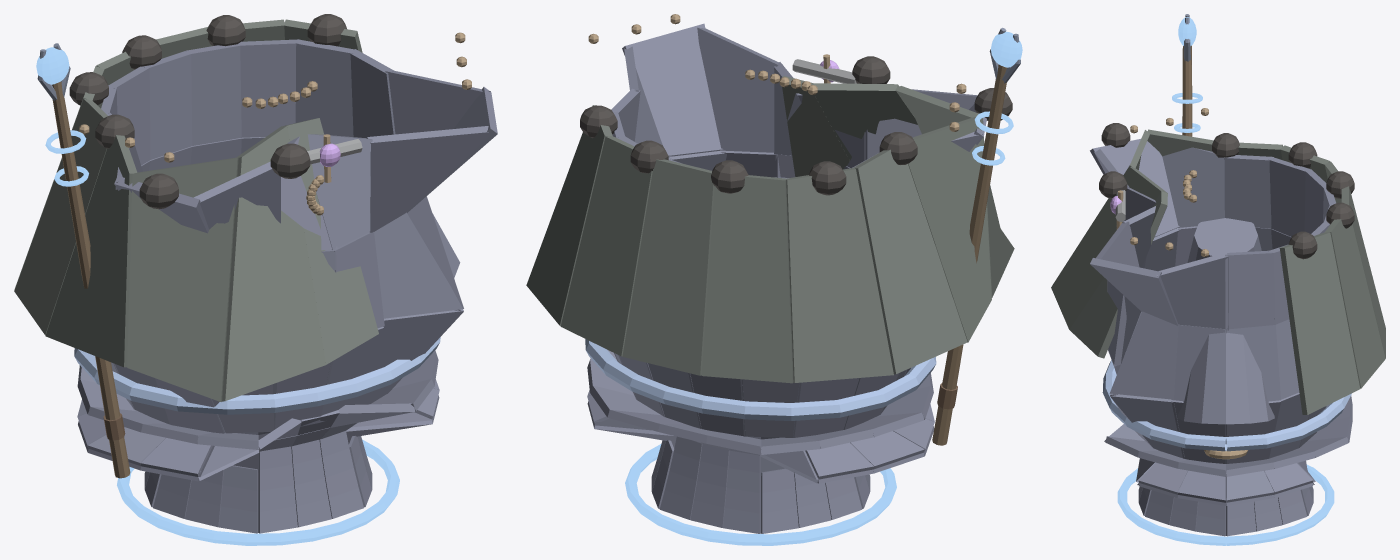
Rendered from mage_kit.glb.
3 views of the same model, side by side, from view 1: azimuth 30°, elevation 25°; view 2: azimuth 150°, elevation 25°; view 3: azimuth 270°, elevation 25° (orthographic). The views are drawn at different scales.
Visible parts, largest first — view 1: Armour_Robe_cloth_mage, Acc_Cloak_cloth_mage, Acc_Cloak_dark_mage, Armour_Robe_trim_mage, Armour_Robe_glow_mage, Weapon_haft_mage, Acc_Amulet_metal_mage, Weapon_glow_mage; view 2: Acc_Cloak_cloth_mage, Armour_Robe_cloth_mage, Armour_Robe_trim_mage, Acc_Cloak_dark_mage, Armour_Robe_glow_mage, Weapon_haft_mage, Weapon_glow_mage, Acc_Amulet_metal_mage, Acc_Cloak_metal_mage; view 3: Armour_Robe_cloth_mage, Acc_Cloak_cloth_mage, Armour_SleeveL_cloth_mage, Acc_Cloak_dark_mage, Armour_Robe_trim_mage, Armour_Robe_glow_mage, Armour_SleeveR_cloth_mage, Weapon_glow_mage, Weapon_haft_mage, Acc_Amulet_metal_mage.
Part boxes in pixels (left/top/right/bottom): Armour_Robe_cloth_mage: left=77, top=39, right=497, bottom=533; Acc_Cloak_cloth_mage: left=14, top=19, right=378, bottom=401; Acc_Cloak_dark_mage: left=69, top=14, right=346, bottom=209; Armour_Robe_trim_mage: left=74, top=337, right=440, bottom=414; Armour_Robe_glow_mage: left=117, top=439, right=399, bottom=545; Weapon_haft_mage: left=52, top=81, right=130, bottom=478; Acc_Amulet_metal_mage: left=79, top=32, right=471, bottom=215; Weapon_glow_mage: left=36, top=47, right=88, bottom=186; Acc_Cloak_cloth_mage: left=526, top=75, right=1014, bottom=383; Armour_Robe_cloth_mage: left=587, top=23, right=986, bottom=533; Armour_Robe_trim_mage: left=585, top=339, right=936, bottom=420; Acc_Cloak_dark_mage: left=580, top=56, right=1012, bottom=195; Armour_Robe_glow_mage: left=625, top=444, right=896, bottom=545; Weapon_haft_mage: left=932, top=64, right=1007, bottom=445; Weapon_glow_mage: left=972, top=31, right=1022, bottom=165; Acc_Amulet_metal_mage: left=588, top=14, right=966, bottom=131; Acc_Cloak_metal_mage: left=792, top=59, right=856, bottom=83; Armour_Robe_cloth_mage: left=1090, top=139, right=1352, bottom=536; Acc_Cloak_cloth_mage: left=1051, top=129, right=1385, bottom=414; Armour_SleeveL_cloth_mage: left=1177, top=332, right=1274, bottom=424; Acc_Cloak_dark_mage: left=1099, top=123, right=1354, bottom=259; Armour_Robe_trim_mage: left=1102, top=360, right=1351, bottom=451; Armour_Robe_glow_mage: left=1117, top=464, right=1334, bottom=545; Armour_SleeveR_cloth_mage: left=1187, top=218, right=1261, bottom=262; Weapon_glow_mage: left=1172, top=17, right=1202, bottom=132; Weapon_haft_mage: left=1182, top=45, right=1192, bottom=136; Acc_Amulet_metal_mage: left=1116, top=108, right=1208, bottom=256.
Size of the model in its own units: 1.16 by 1.3 by 0.9947.
